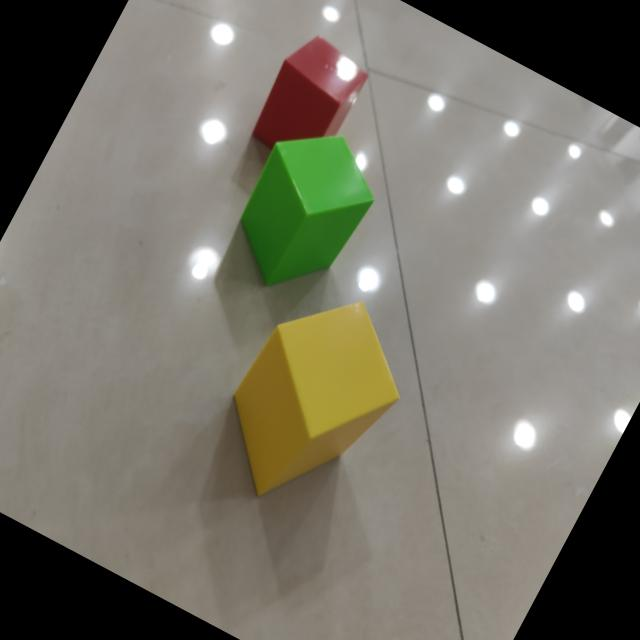green: (238, 136, 372, 288)
red: (250, 37, 366, 149)
yellow: (230, 303, 398, 497)
